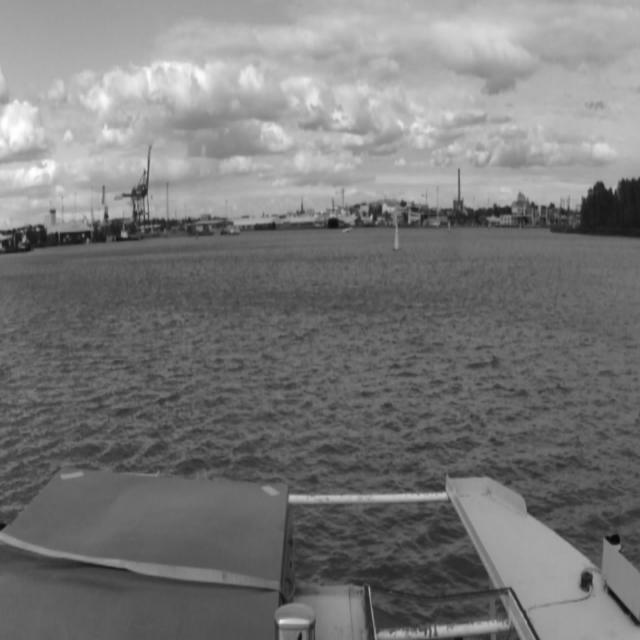buoy: (393, 218, 400, 254), (195, 228, 199, 242)
ship: (342, 224, 354, 236)
